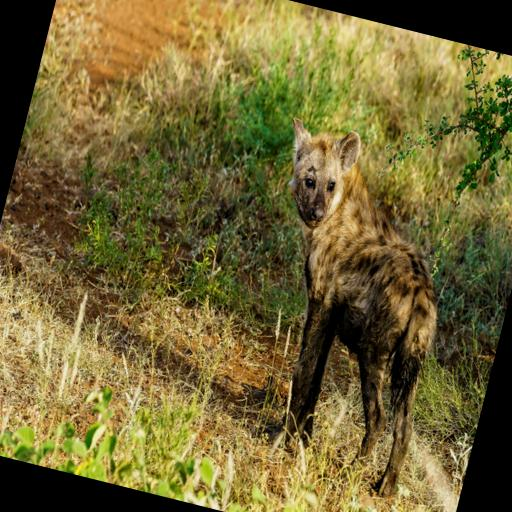hyenas: (204, 92, 510, 476)
